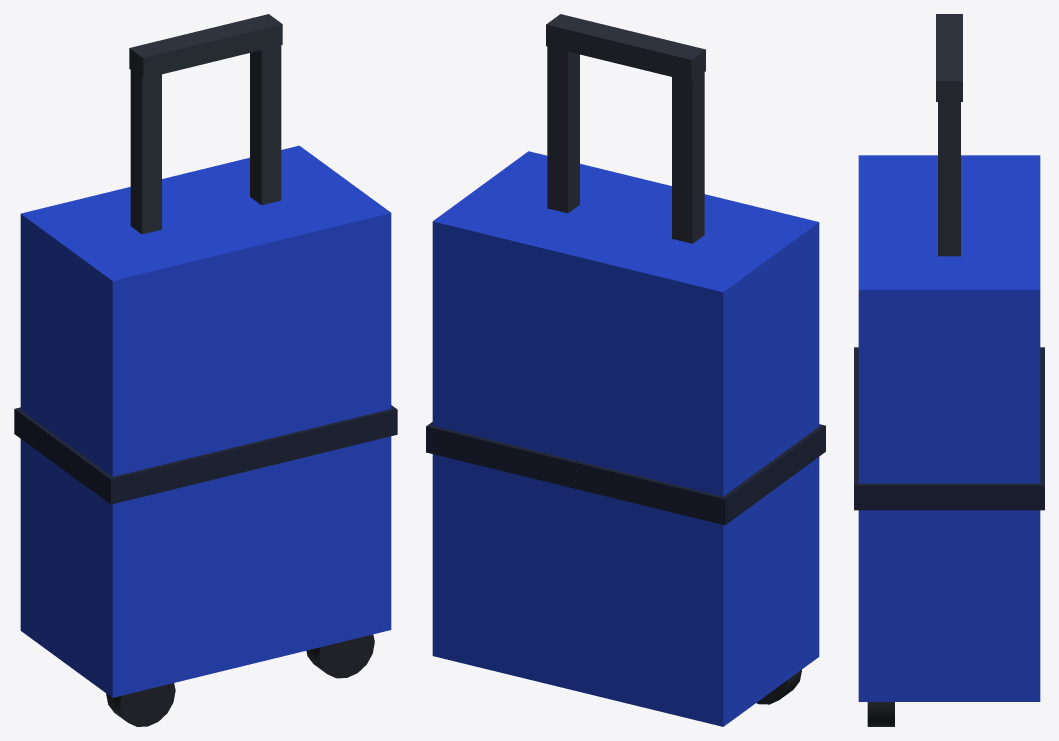
File: suitcase.glb
The picture shows the model from 3 angles, left to right: view 1: azimuth 30°, elevation 25°; view 2: azimuth 150°, elevation 25°; view 3: azimuth 270°, elevation 25°; orthographic projection. The views are drawn at different scales.
Visible parts, largest first — view 1: Body, Seam, Pole (×2), Grip, Wheel (×2); view 2: Body, Seam, Pole (×2), Grip; view 3: Body, Seam, Pole, Grip, Wheel.
Part boxes in pixels (x1,y1,x2,y2): Body: (20, 145, 391, 697); Seam: (14, 405, 397, 504); Pole (×2): (130, 45, 281, 234); Grip: (129, 14, 282, 78); Wheel (×2): (106, 634, 374, 726); Body: (432, 151, 819, 726); Seam: (426, 422, 825, 525); Pole (×2): (547, 46, 704, 243); Grip: (546, 14, 705, 81); Body: (858, 155, 1040, 701); Seam: (854, 347, 1044, 510); Pole: (938, 91, 960, 256); Grip: (936, 14, 962, 101); Wheel: (867, 702, 894, 726).
Bounding box in the file's own units: 0.72 × 1.53 × 0.42.
